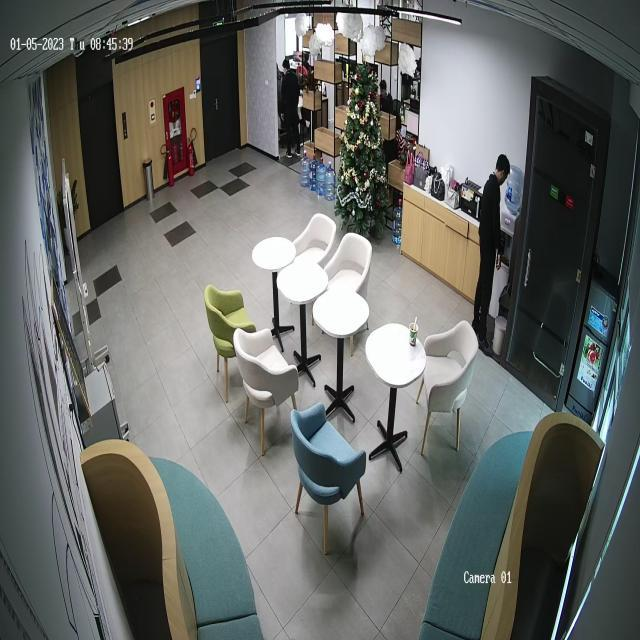person: (473, 154, 511, 350), (281, 58, 302, 160)
